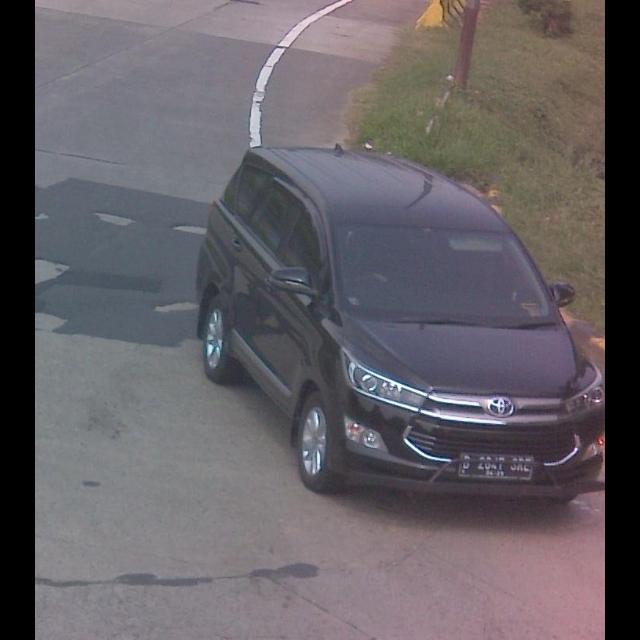plate: (460, 446, 540, 486)
